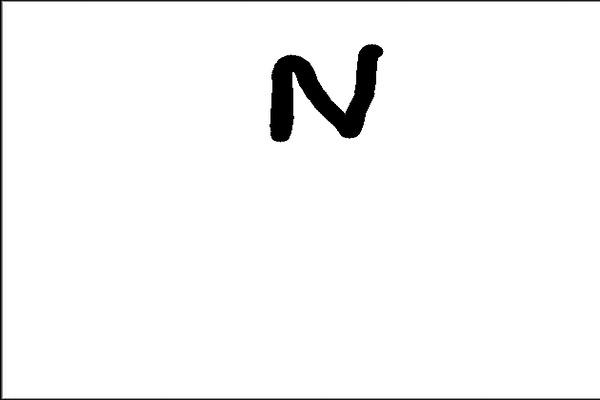N: (263, 36, 390, 150)
